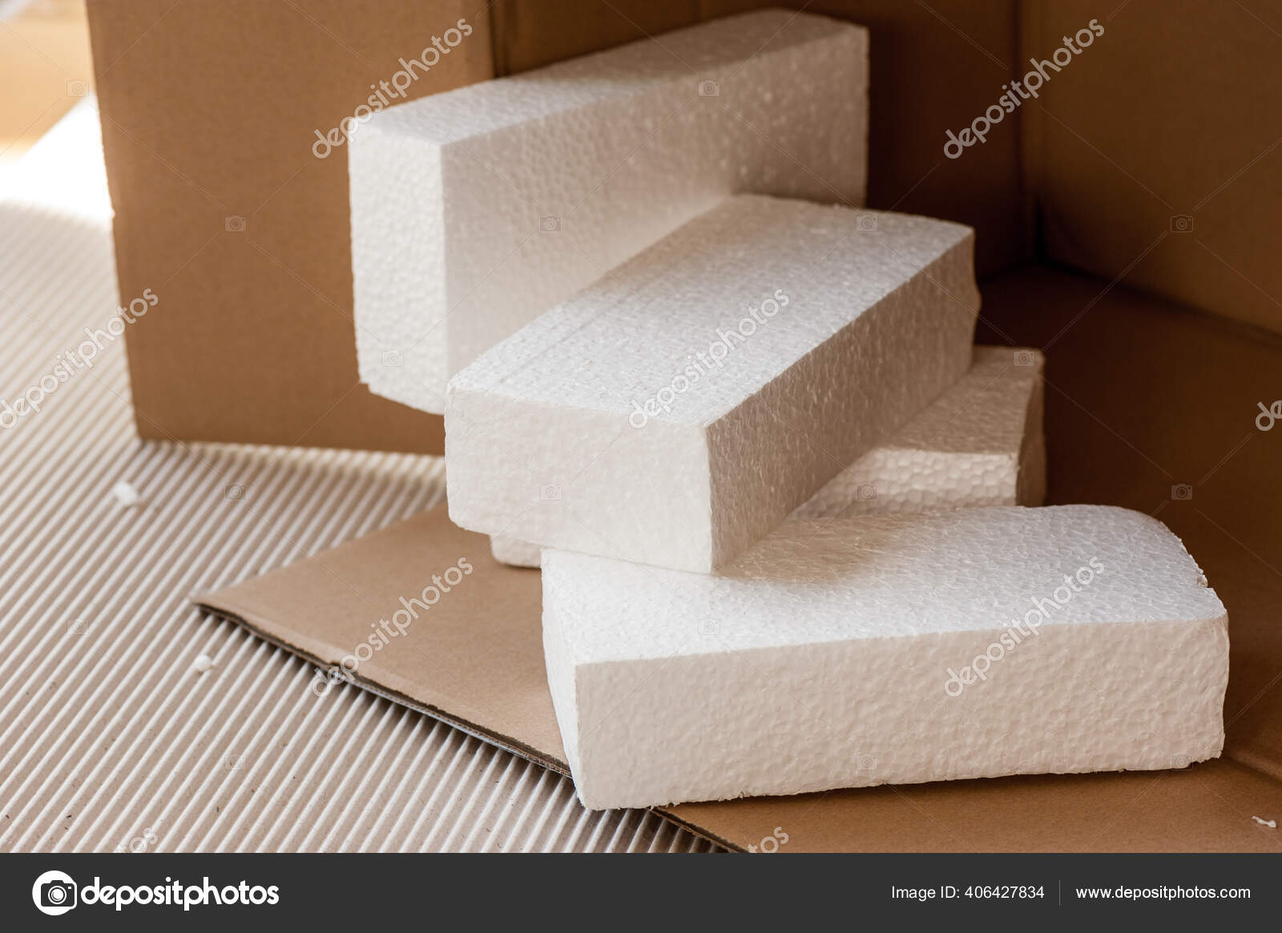泡沫箱: (541, 505, 1227, 808), (349, 13, 867, 414), (445, 199, 976, 572)
